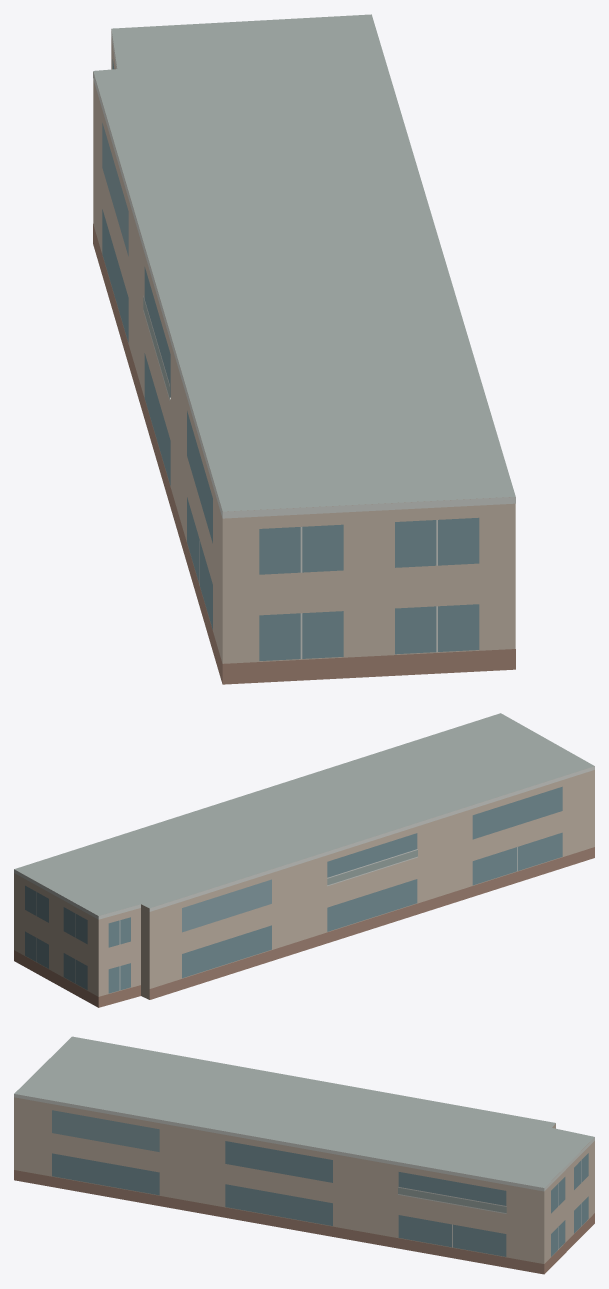
The model's file is survey-upis-32561161.glb.
3 views of the same model, one above another, from view 1: azimuth 30°, elevation 25°; view 2: azimuth 150°, elevation 25°; view 3: azimuth 270°, elevation 25° (orthographic). The views are drawn at different scales.
Visible parts, largest first — view 1: survey-upis-32561161.tmp; view 2: survey-upis-32561161.tmp; view 3: survey-upis-32561161.tmp.
Part boxes in pixels (left/top/right/bottom): survey-upis-32561161.tmp: left=93, top=14, right=515, bottom=684; survey-upis-32561161.tmp: left=14, top=713, right=594, bottom=1007; survey-upis-32561161.tmp: left=14, top=1036, right=594, bottom=1274.
Bounding box in the file's own units: 22.96 × 6.1 × 37.17.
